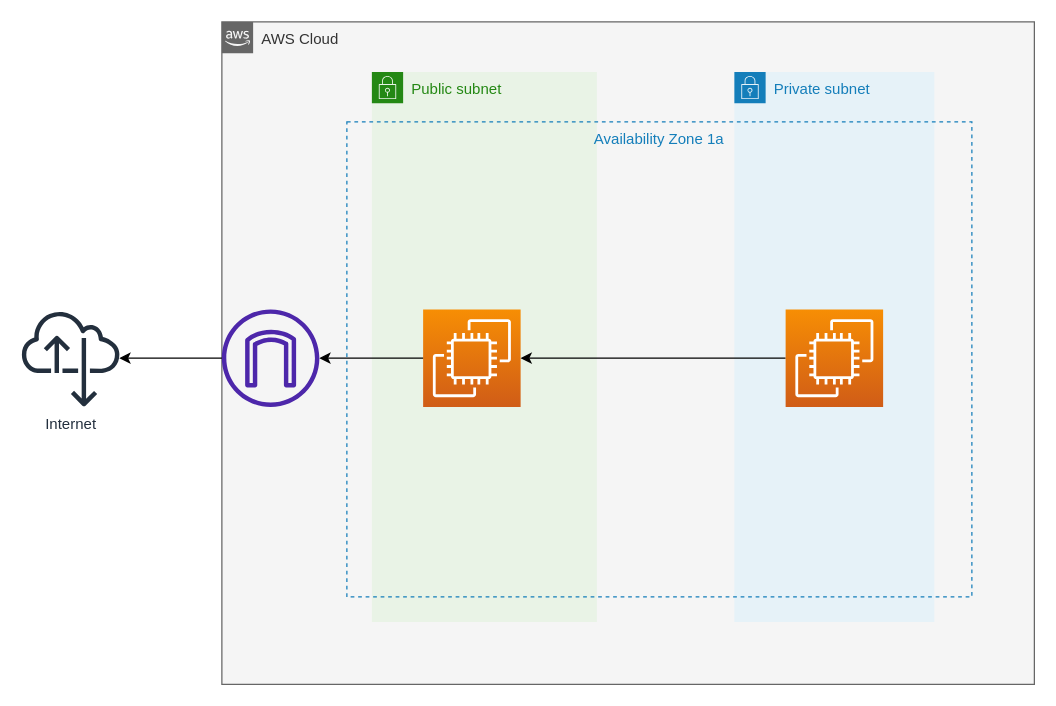
Image size: 1056x706. Some labels were removed from this diagram. Each missing label, with the centre of its shape:
"client" belongs at [833,357].
"InternetGateway" belongs at [270,357].
"proxy" belongs at [471,357].
